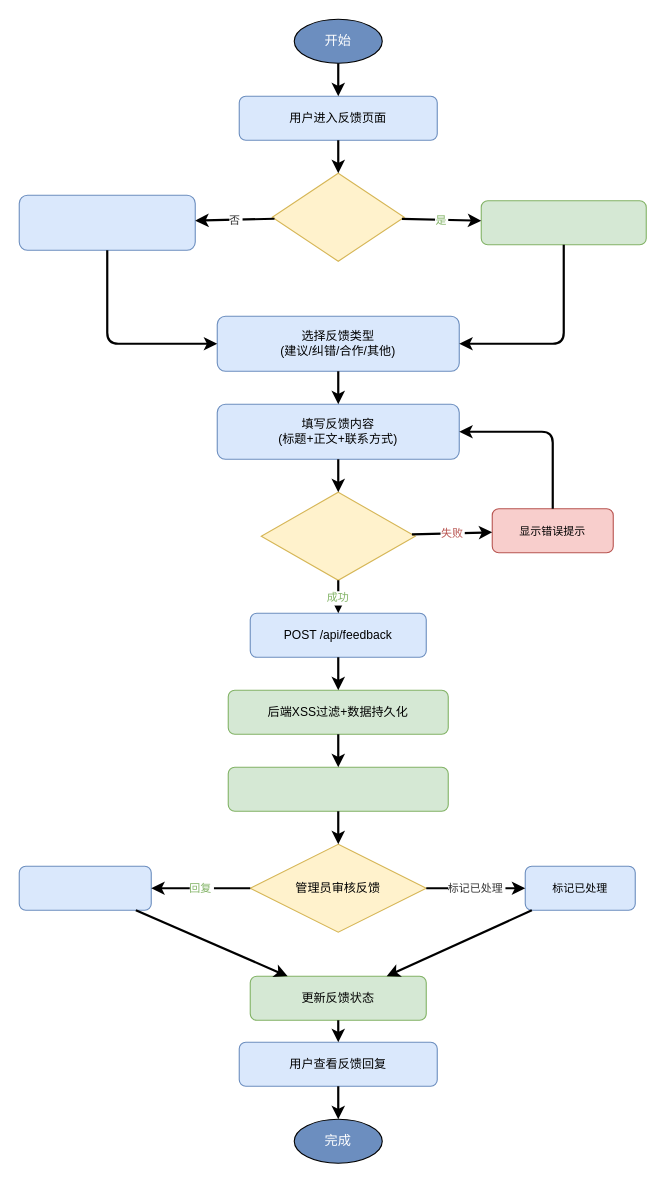
The diagram is 666 pixels wide and 1183 high, and some of its shapes have lost their labels. The box of each missing label's shape, as (x1, y1, x2, y2) in pixels:
填写回复内容: (18, 865, 151, 910)
是否登录?: (271, 172, 404, 261)
游客模式 (可选填联系方式): (18, 194, 195, 250)
自动填充用户信息: (480, 200, 646, 245)
表单验证通过?: (260, 491, 415, 580)
通过RabbitMQ异步处理: (227, 766, 448, 811)
